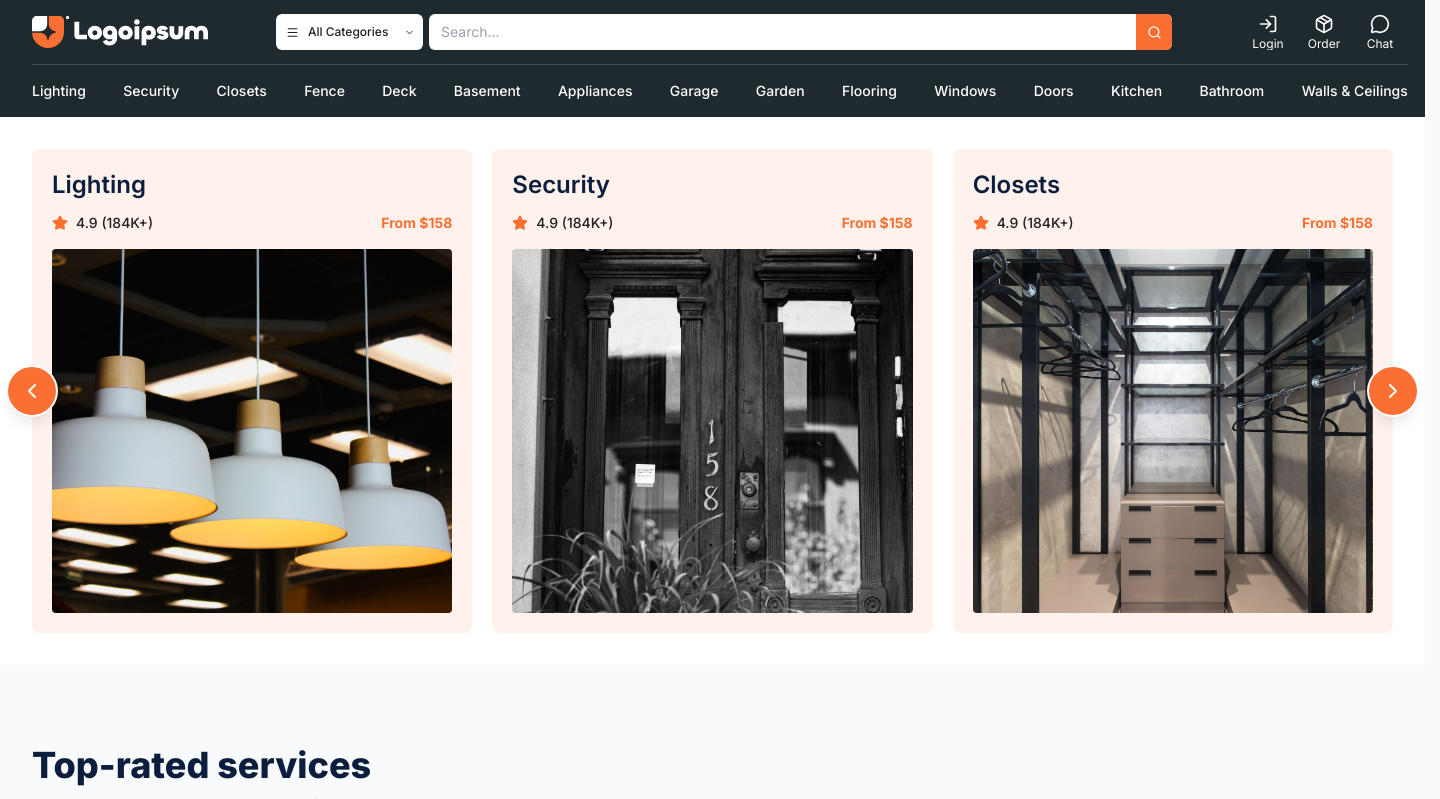
HomeContent landing chat integration › opens the chat widget from the desktop navbar Chat action
The width and height of the screenshot is (1440, 799).
What coordinates should you click on to do the following:
click the button "Chat"
I would click on:
 (1380, 32)
Its box is [1352, 14, 1408, 50].
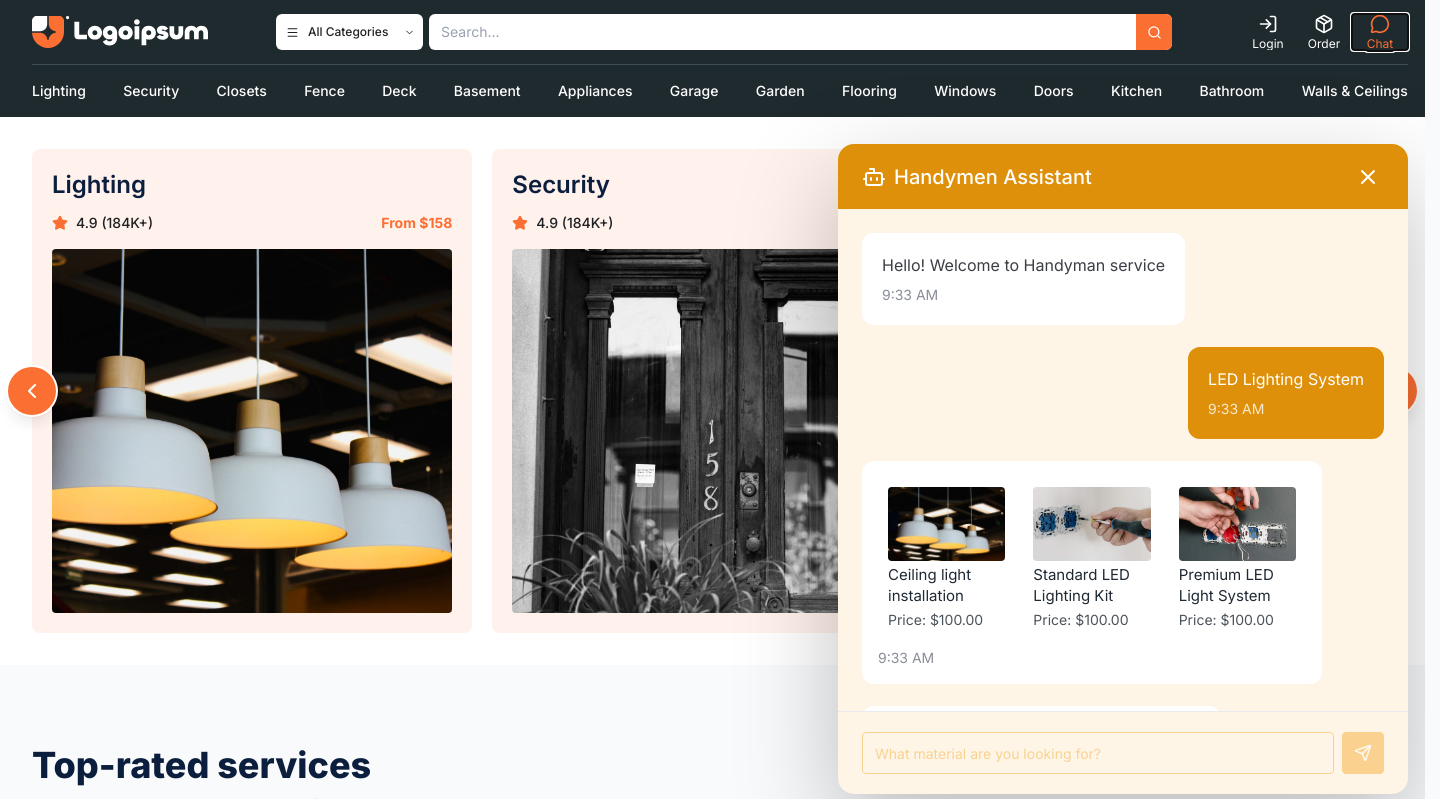
Result: the element named "Handyman assistant chat" is shown at [838, 144, 1408, 794]
Result: the heading "Handymen Assistant" is shown at [894, 162, 1092, 190]
